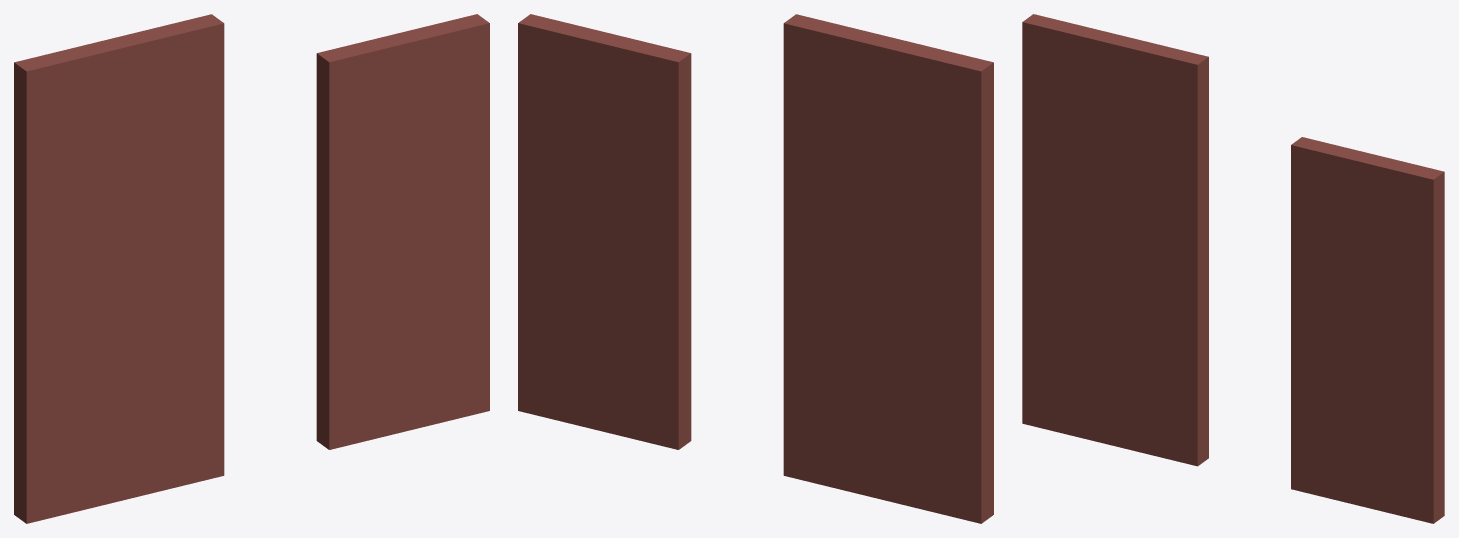
File: hd2d_market_prop_hanging_cloth.glb
3 renders of one model, left to right at view 1: azimuth 30°, elevation 25°; view 2: azimuth 150°, elevation 25°; view 3: azimuth 330°, elevation 25°, orthographic. The views are drawn at different scales.
Parts seen in each view (by area): view 1: HangingClothRed, HangingClothDark; view 2: HangingClothRed, HangingClothDark; view 3: HangingClothRed, HangingClothDark.
Boxes of the visible parts, x1,y1,x2,y2 form: HangingClothRed: (14,14,224,523); HangingClothDark: (316,14,489,449); HangingClothRed: (783,14,993,523); HangingClothDark: (518,14,691,449); HangingClothRed: (1022,14,1208,466); HangingClothDark: (1291,137,1444,523).
Bounding box in the file's own units: 0.75 × 0.7 × 0.035.
